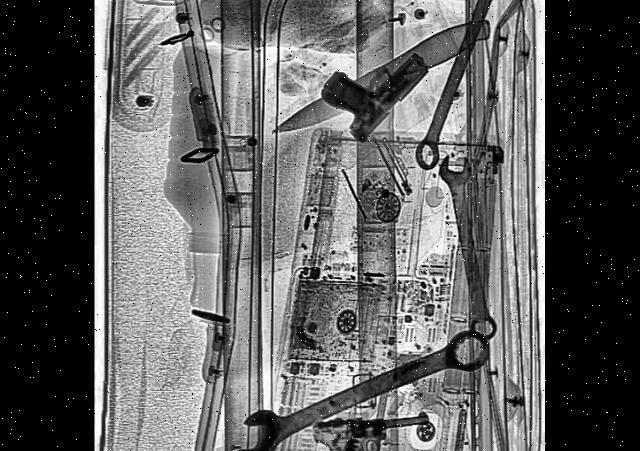Gun: (318, 0, 429, 162), (310, 409, 430, 451)
Knife: (270, 6, 491, 146)
Wrench: (231, 315, 493, 451), (407, 0, 517, 176), (436, 140, 501, 348)
